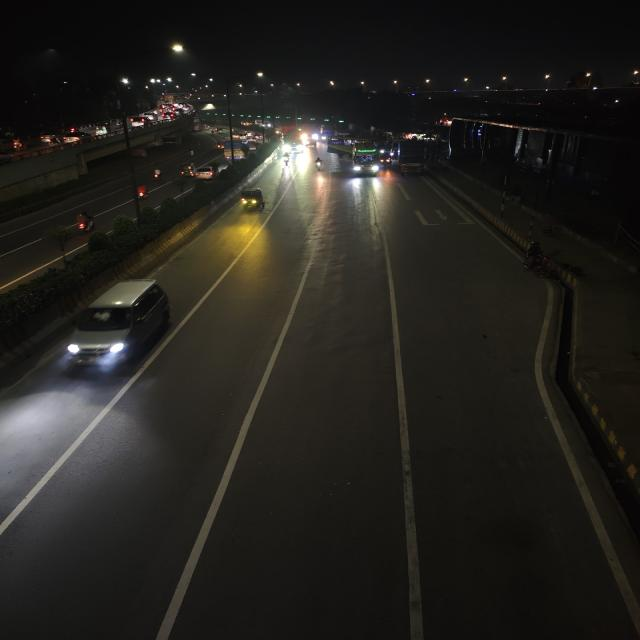bus: (327, 137, 384, 178)
car: (56, 274, 178, 382), (193, 162, 224, 181), (129, 115, 148, 127), (162, 114, 175, 122)
cng: (235, 185, 268, 215), (160, 131, 183, 147)
motorcycle: (522, 240, 556, 280), (68, 208, 97, 239), (132, 181, 152, 201), (150, 165, 164, 182), (314, 156, 324, 172)
truck: (396, 140, 428, 178), (222, 139, 250, 161)
